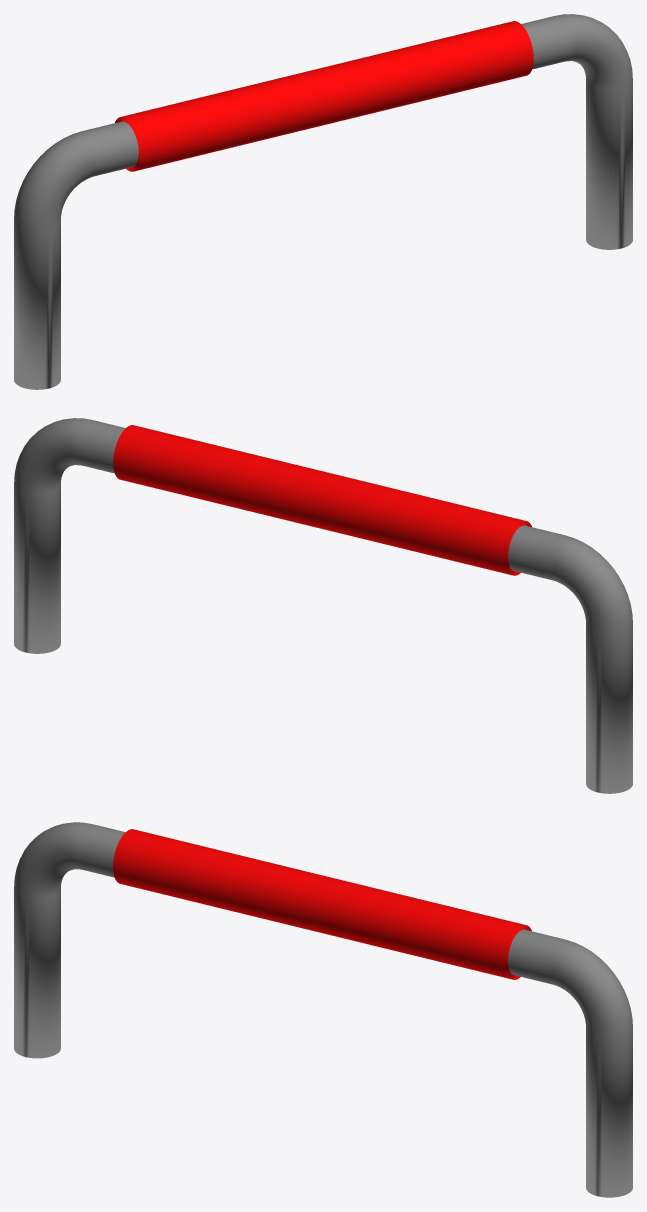
The model's file is cable_rojo_09.fbx.
3 renders of one model, top to bottom at view 1: azimuth 30°, elevation 25°; view 2: azimuth 150°, elevation 25°; view 3: azimuth 330°, elevation 25°, orthographic.
Parts seen in each view (by area): view 1: Cilindro_rojo_int_09, Cilindro_rojo_ext_09; view 2: Cilindro_rojo_int_09, Cilindro_rojo_ext_09; view 3: Cilindro_rojo_int_09, Cilindro_rojo_ext_09.
Boxes of the visible parts, bbox=[...] form: Cilindro_rojo_int_09: bbox=[14, 14, 632, 389]; Cilindro_rojo_ext_09: bbox=[115, 21, 533, 171]; Cilindro_rojo_int_09: bbox=[14, 418, 632, 793]; Cilindro_rojo_ext_09: bbox=[113, 425, 531, 575]; Cilindro_rojo_int_09: bbox=[14, 822, 632, 1197]; Cilindro_rojo_ext_09: bbox=[113, 829, 531, 979].
Size of the model in its own units: 120 by 44.93 by 9.6.
